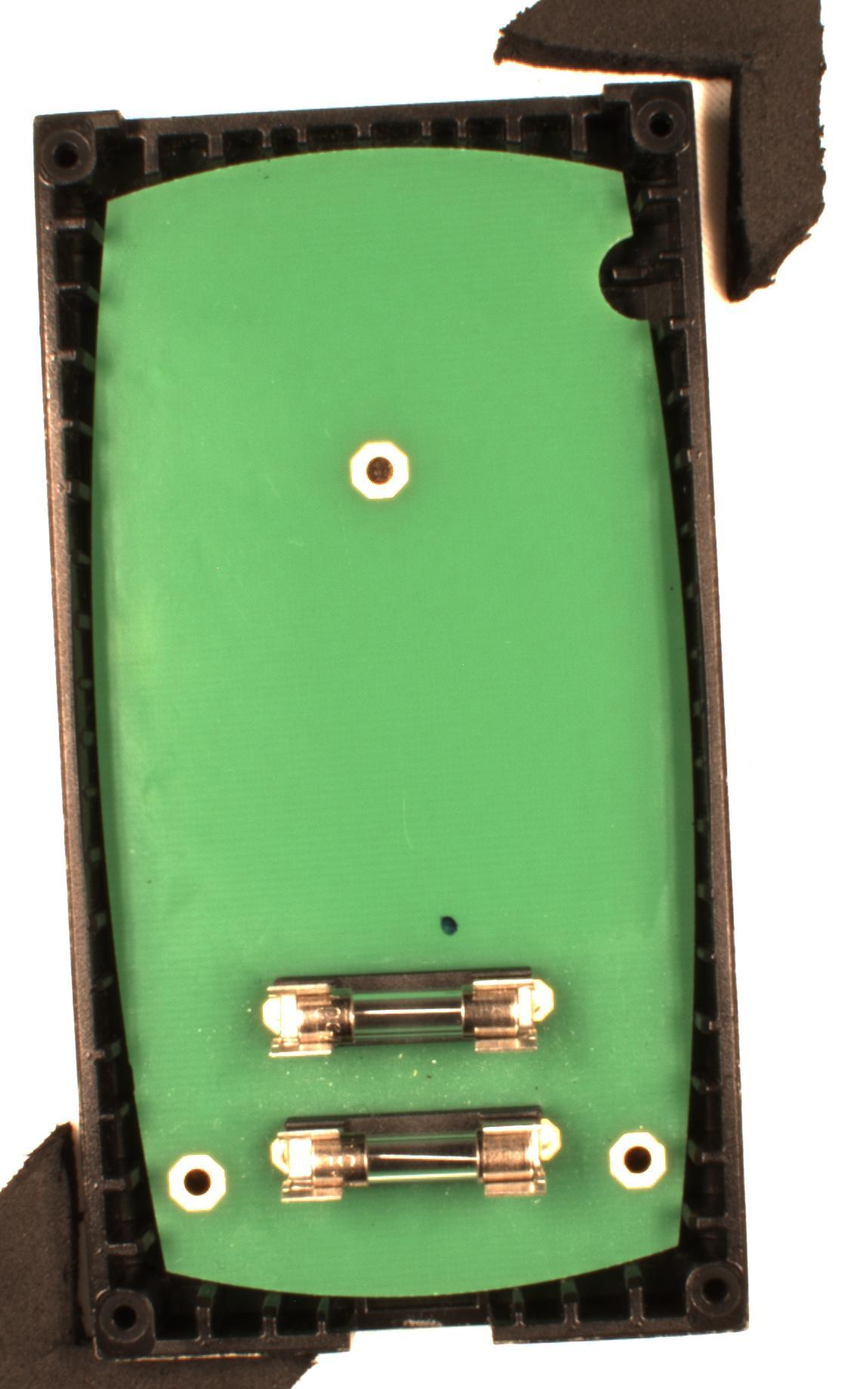Tockasto Ostecenje: (438, 912, 464, 939)
